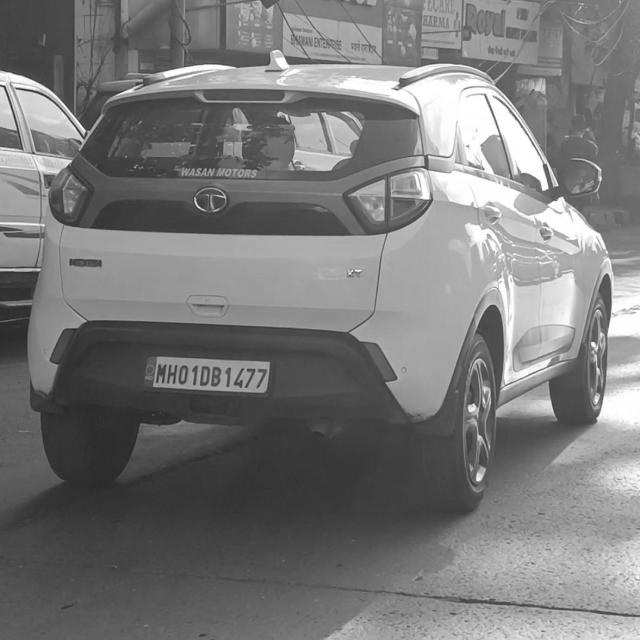car: (26, 50, 612, 512)
license-plate: (142, 350, 274, 397)
